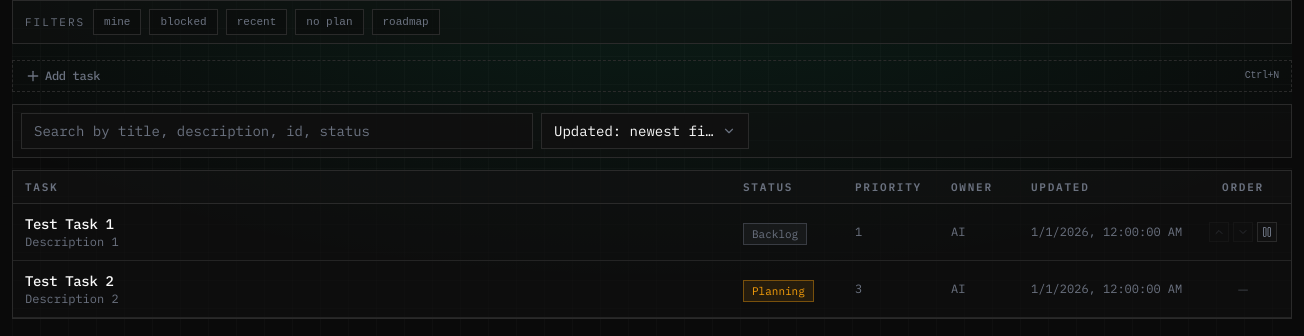
Board › should filter list view by search query
Type "Task 2" into the field with placeholder "Search by title, description, id, status" at (277, 131), box [21,113,533,149]
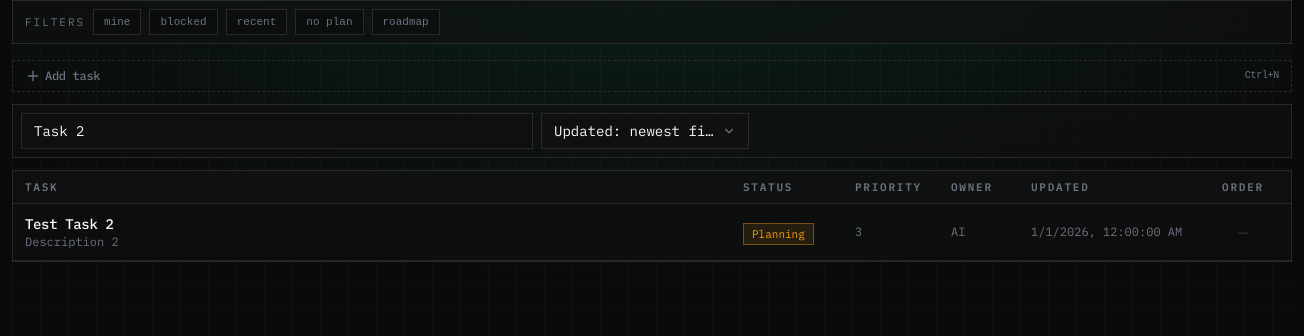
Expected: the text "Test Task 2" is shown, [25,215,114,233]
Result: the text "Test Task 1" is gone
